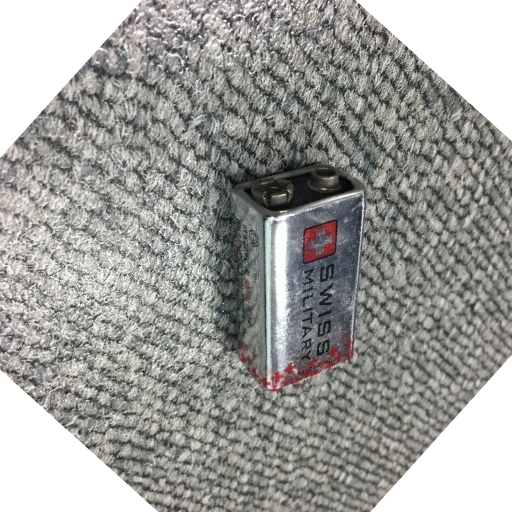Battery_3: (213, 149, 375, 397)
